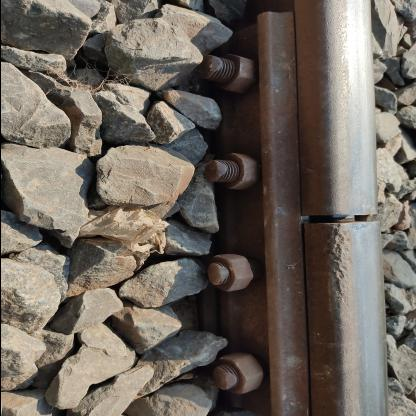Non Defective 2: (275, 166, 383, 274)
Non Defective 3: (188, 9, 320, 415)
